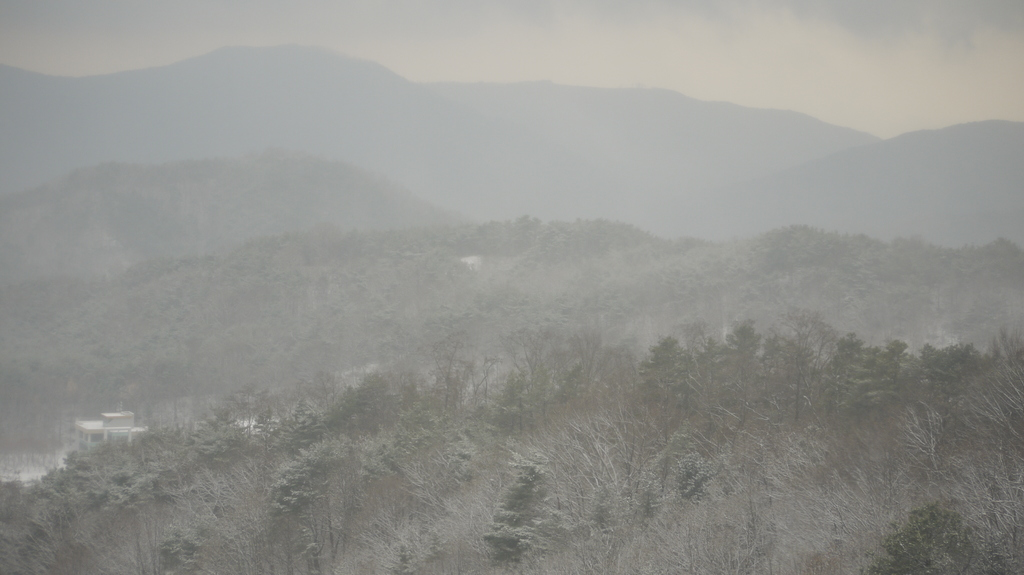Tree: (0, 212, 1024, 575)
